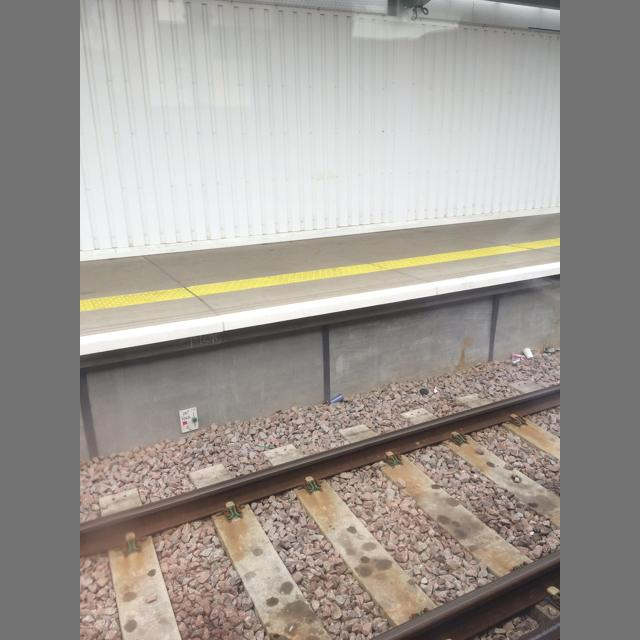litter: (329, 393, 344, 404), (523, 347, 534, 360), (512, 354, 525, 361), (509, 358, 520, 366), (420, 388, 429, 395), (531, 349, 537, 350)
